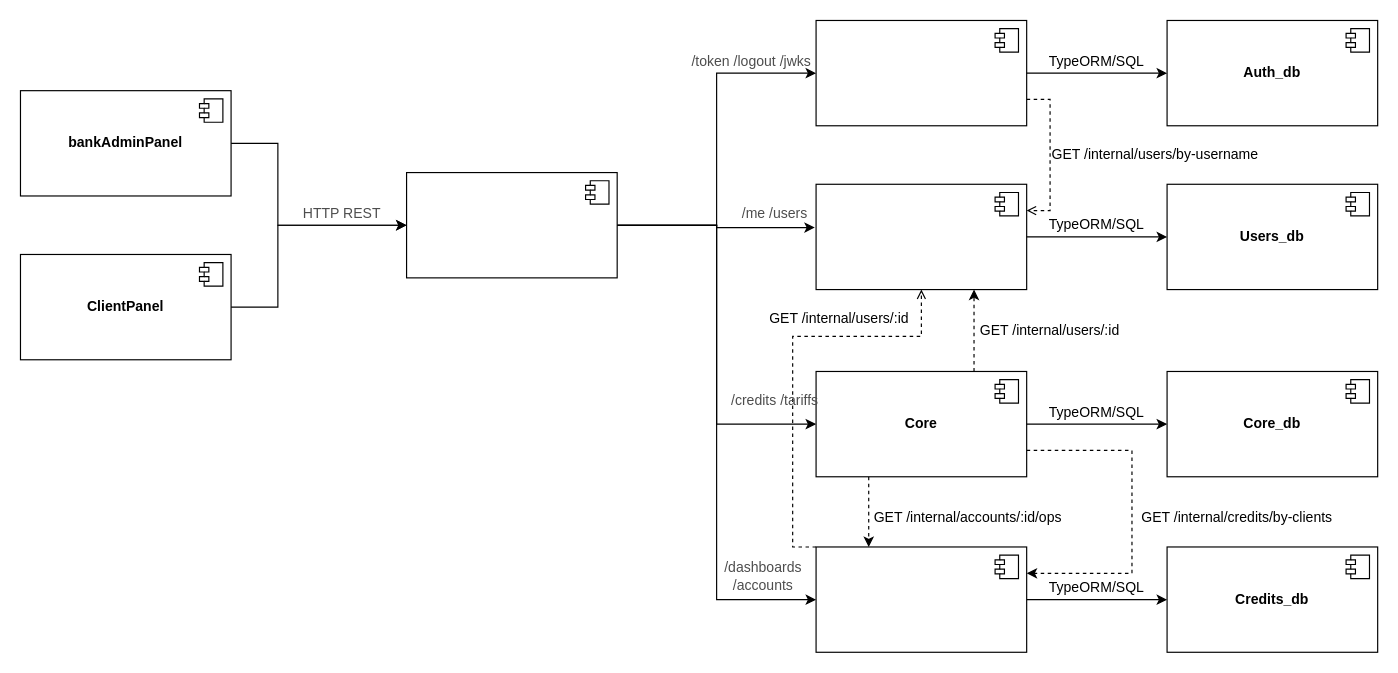
Image size: 1398x673. Some labels were removed from this diagram. Each missing label, with the centre of its shape:
"Auth" goes at point (921, 72).
"Credits" goes at point (921, 599).
"Gateway" goes at point (511, 224).
"Users" goes at point (921, 236).
